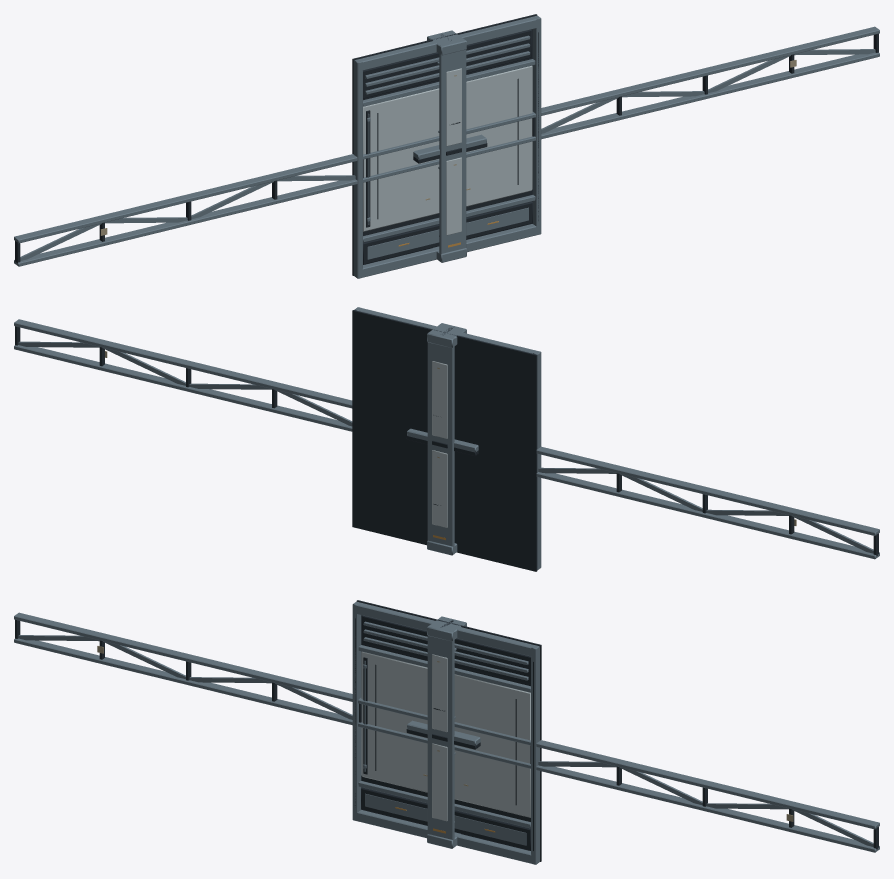
File: kit-low-v1.glb
3 views of the same model, one above another, from view 1: azimuth 30°, elevation 25°; view 2: azimuth 150°, elevation 25°; view 3: azimuth 330°, elevation 25° (orthographic).
Parts seen in each view (by area): view 1: ceiling-truss_alloy, wall-bay_ceramic, wall-bay_alloy, wall-bay_graphite, support-column_alloy, support-column_ceramic, ceiling-truss_graphite; view 2: wall-bay_graphite, ceiling-truss_alloy, support-column_alloy, support-column_ceramic, wall-bay_alloy, ceiling-truss_graphite; view 3: ceiling-truss_alloy, wall-bay_ceramic, wall-bay_alloy, wall-bay_graphite, support-column_alloy, support-column_ceramic, ceiling-truss_graphite.
Part boxes in pixels (x1,y1,x2,y2): ceiling-truss_alloy: [14, 26, 879, 266]; wall-bay_ceramic: [363, 65, 532, 231]; wall-bay_alloy: [354, 15, 541, 278]; wall-bay_graphite: [352, 14, 538, 275]; support-column_alloy: [427, 30, 466, 262]; support-column_ceramic: [446, 68, 461, 235]; ceiling-truss_graphite: [15, 33, 878, 263]; wall-bay_graphite: [352, 310, 537, 571]; ceiling-truss_alloy: [14, 319, 879, 559]; support-column_alloy: [427, 323, 466, 555]; support-column_ceramic: [432, 361, 447, 527]; wall-bay_alloy: [354, 307, 541, 570]; ceiling-truss_graphite: [15, 326, 878, 555]; ceiling-truss_alloy: [14, 612, 879, 852]; wall-bay_ceramic: [361, 651, 530, 817]; wall-bay_alloy: [352, 601, 539, 864]; wall-bay_graphite: [355, 600, 541, 861]; support-column_alloy: [427, 616, 466, 848]; support-column_ceramic: [432, 654, 447, 821]; ceiling-truss_graphite: [15, 619, 878, 849].
Size of the model in its own units: 50 by 12 by 1.5.
